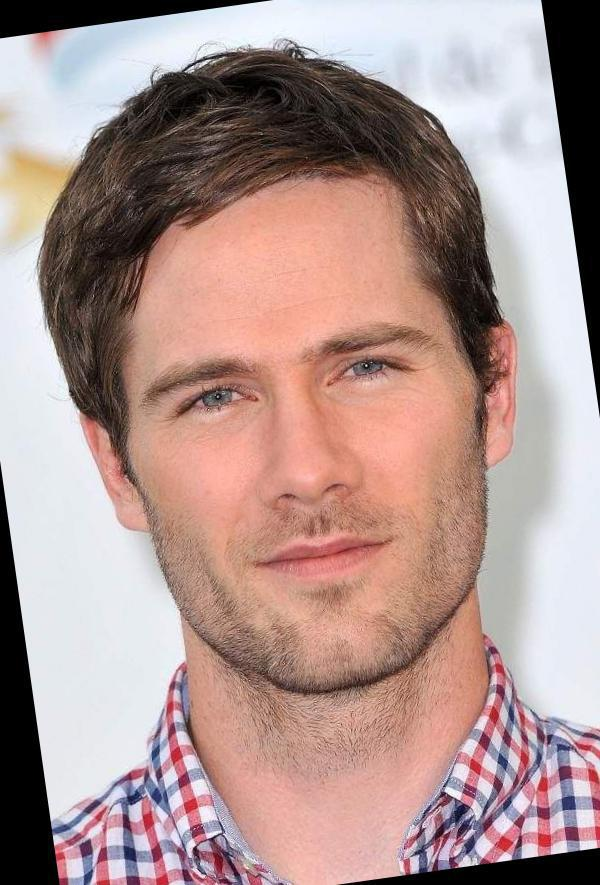Sober: (145, 200, 462, 659)
